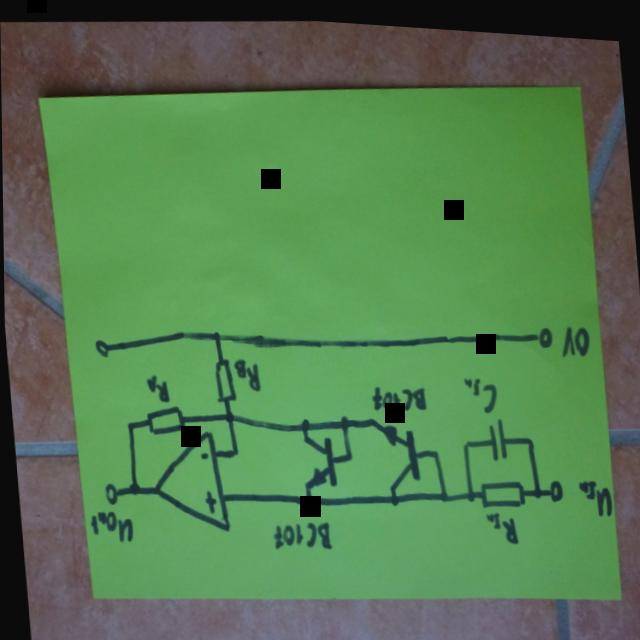capacitor: (485, 409, 509, 457)
junction: (338, 410, 349, 428), (437, 483, 449, 499), (388, 488, 400, 504), (128, 481, 140, 497), (464, 483, 476, 498), (524, 427, 535, 443), (303, 491, 314, 507), (223, 407, 234, 423), (300, 413, 310, 430), (229, 443, 240, 457), (211, 327, 222, 341), (532, 479, 542, 494), (343, 446, 353, 459), (461, 432, 470, 445), (430, 442, 439, 454), (126, 419, 135, 431)
resistor: (478, 471, 526, 505), (144, 402, 186, 437), (212, 354, 236, 402)
terminal: (535, 318, 555, 344), (547, 471, 565, 497), (101, 481, 119, 507), (93, 336, 110, 360)
text: (270, 514, 333, 551), (369, 377, 427, 410), (88, 506, 134, 546), (575, 470, 614, 512), (462, 369, 499, 411), (485, 503, 519, 541), (558, 316, 592, 353), (232, 353, 261, 392), (145, 371, 170, 404)
transistor: (370, 410, 421, 489), (299, 430, 338, 488)
